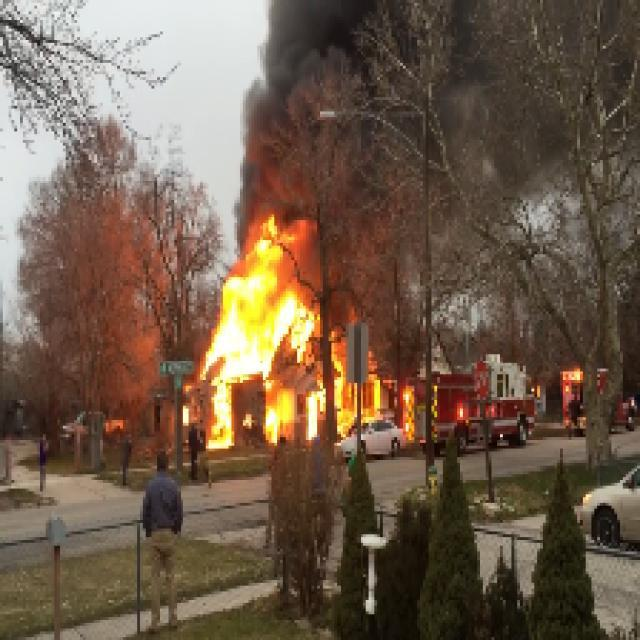Fire: (210, 256, 305, 428)
Smoke: (250, 67, 286, 155), (262, 7, 351, 40)
